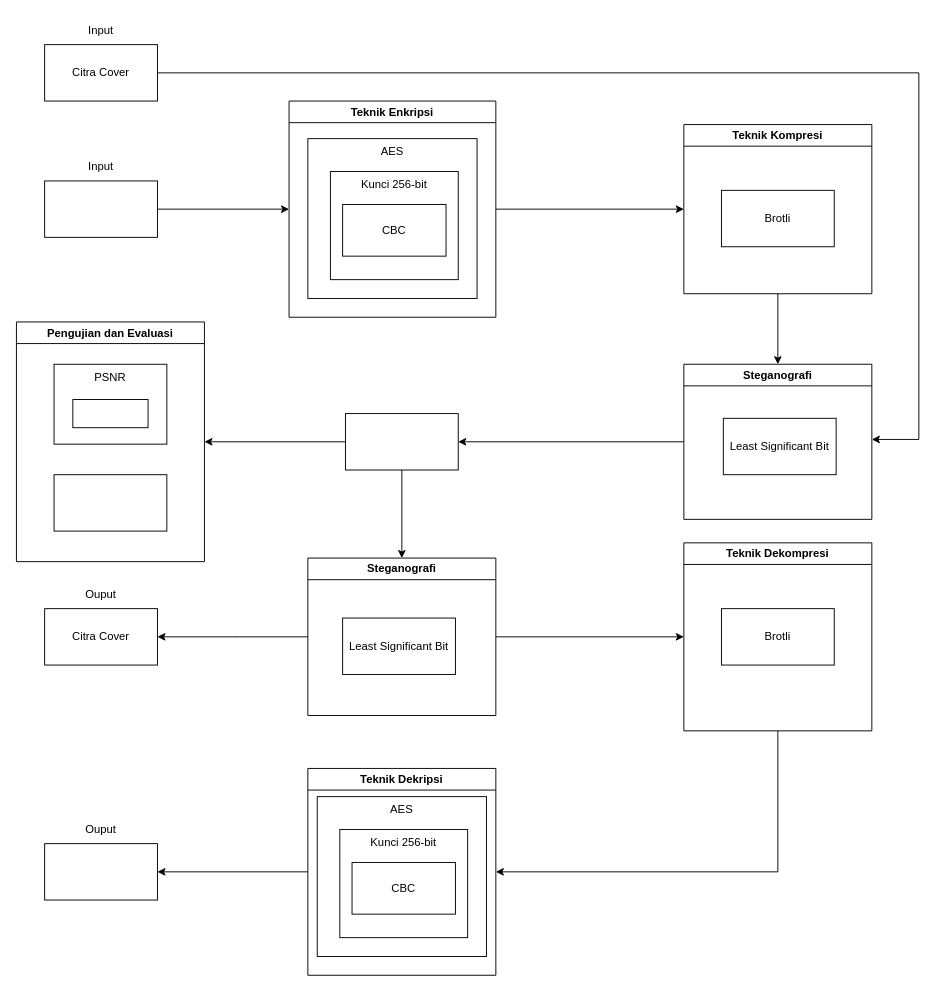
Image size: 943x992. Some labels were removed from this diagram. The centre of each missing label's shape, as x and y in pixels:
Citra Gambar dan Teks Rahasia: point (100, 871)
Citra Stego yang telah disisipkan: point (401, 441)
Input Citra Gambar dan Teks: point (100, 208)
MSE: point (110, 413)
Pixel Different Histogram: point (110, 502)
